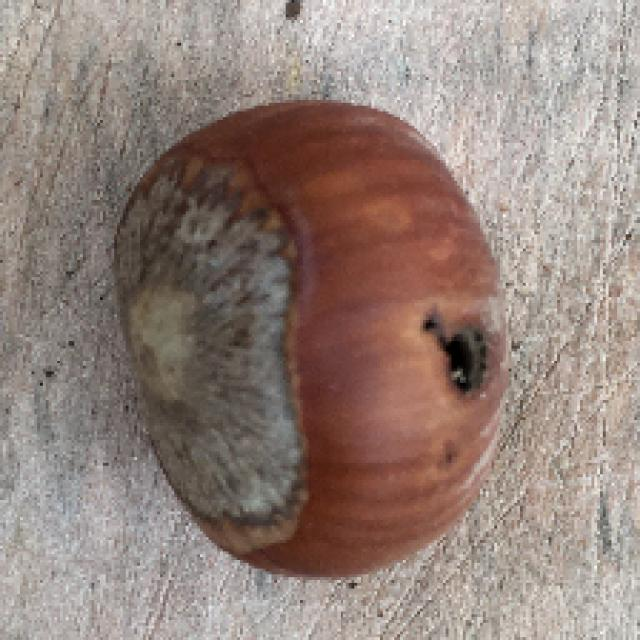damagedHazelnut: (102, 88, 527, 590)
